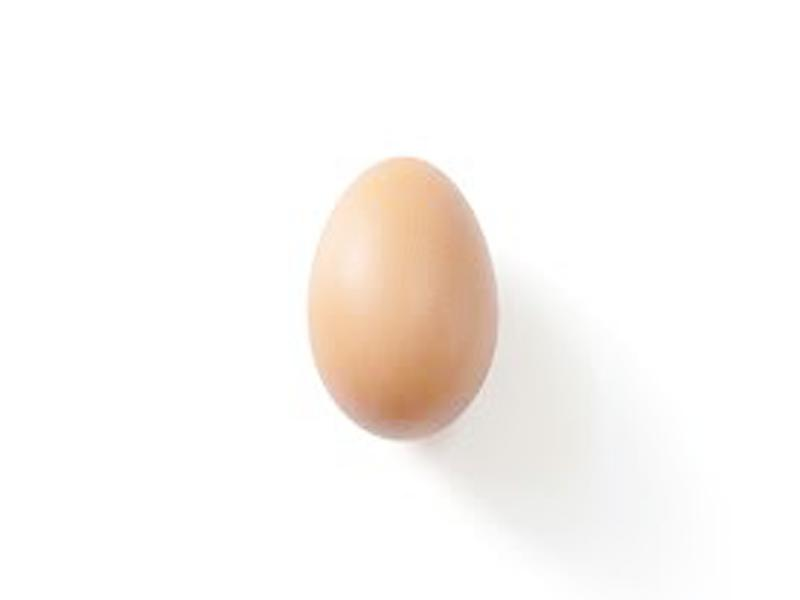Eggs: (310, 154, 496, 439)
